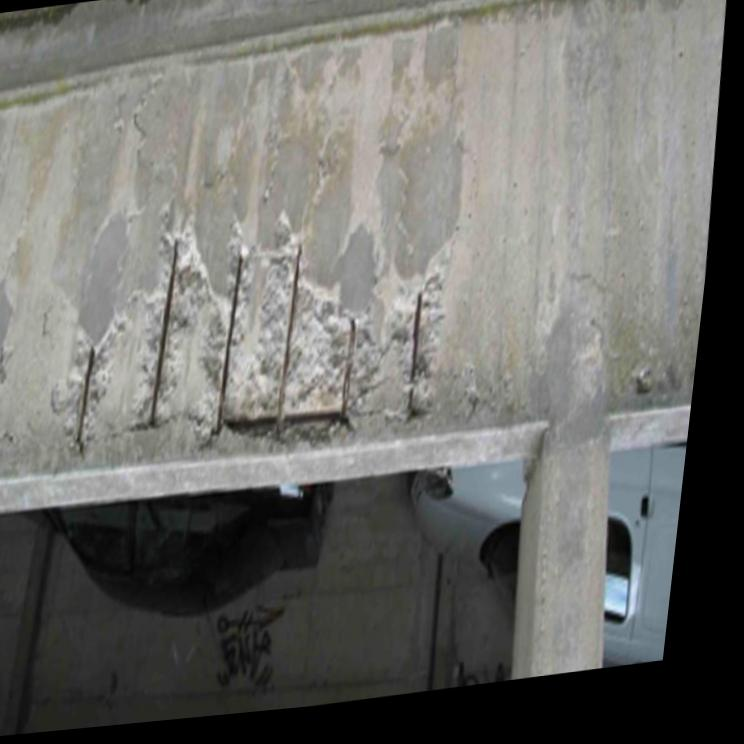damage: (60, 236, 456, 454)
